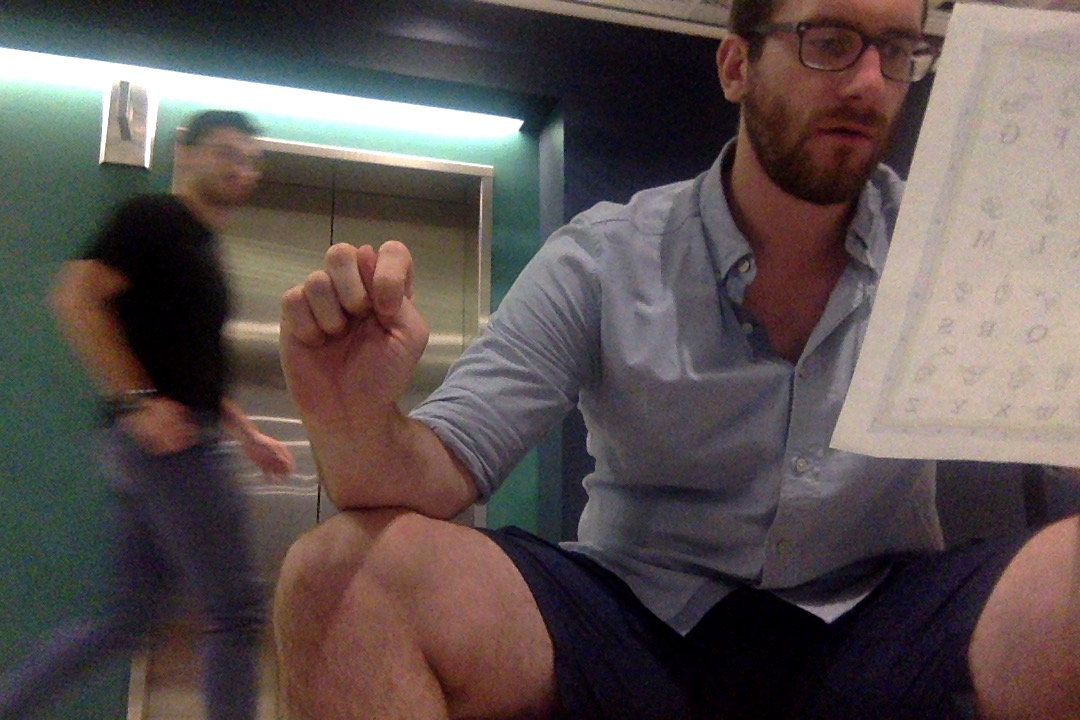t: (276, 234, 431, 418)
